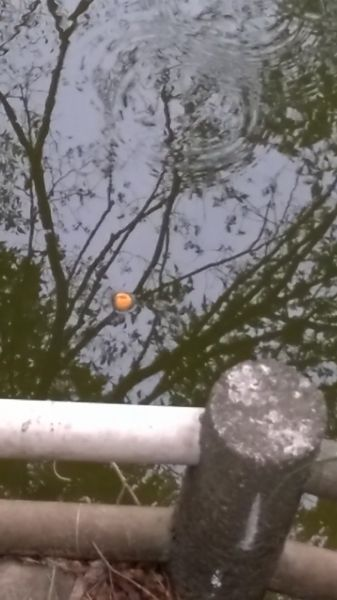eggs: (110, 289, 135, 311)
